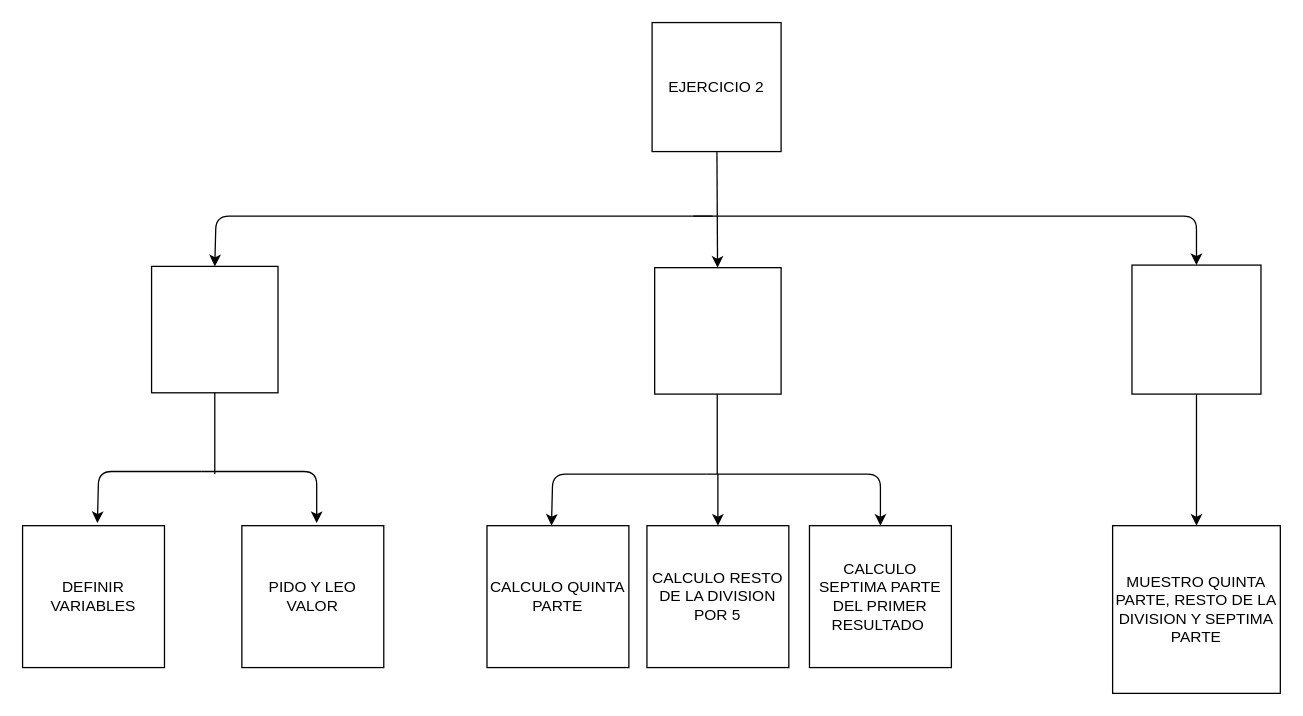
Some shapes in this 1303 by 716 pixel diagram are drawn without their labels. Here are the shapes that lost their labels. From the top down, the centre of each, then its label:
At pixel 214 329: "PEDIR EL VALOR ENTERO".
At pixel 717 330: "REALIZO LOS CALCULOS".
At pixel 1196 329: "MUESTRO RESULTADOS".
